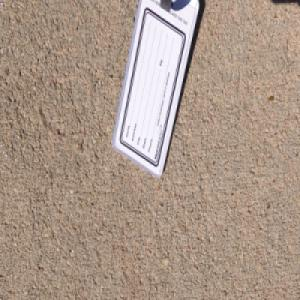LuggageTag: (111, 0, 200, 180)
